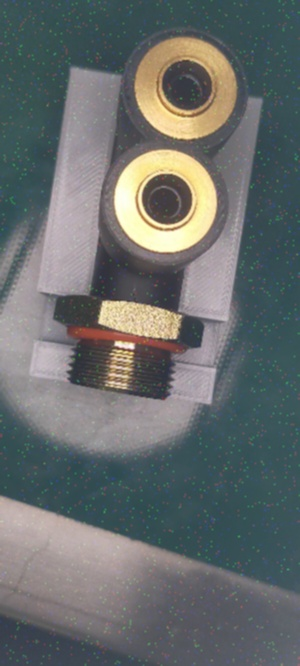craze: (130, 293, 139, 302)
white mark: (130, 280, 138, 291)
